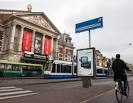board: (75, 48, 96, 90)
